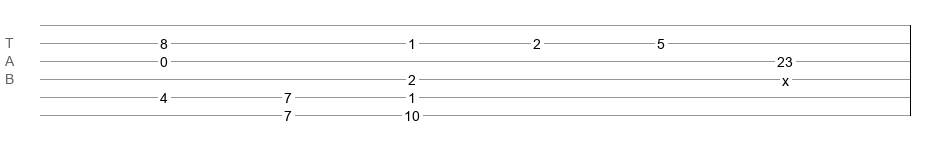0: (160, 54, 168, 64)
1: (408, 90, 416, 100), (408, 36, 416, 46)
10: (404, 108, 420, 118)
2: (408, 72, 416, 82), (533, 36, 541, 46)
23: (777, 54, 793, 64)
4: (160, 90, 168, 100)
5: (657, 36, 665, 46)
7: (284, 90, 292, 100), (284, 108, 292, 118)
8: (160, 36, 168, 46)
x: (782, 73, 789, 81)
